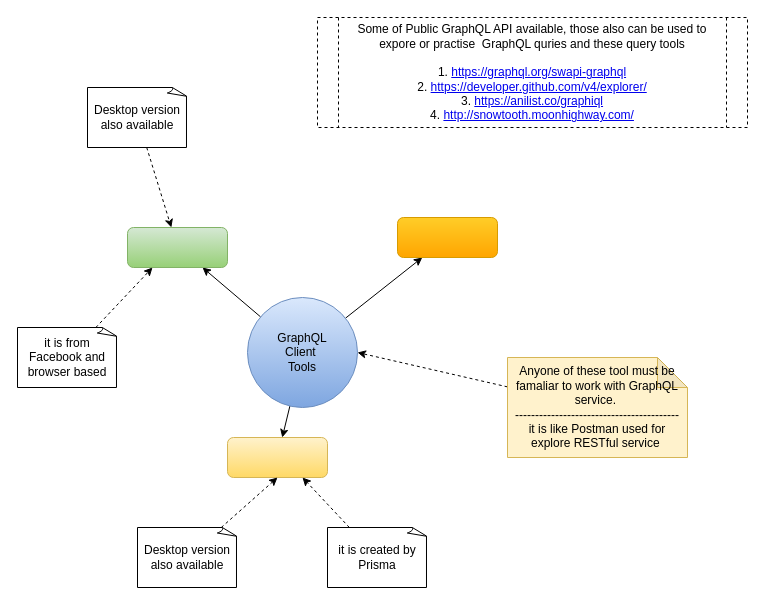
The diagram is 765 pixels wide and 605 high, and some of its shapes have lost their labels. Here are the shapes that lost their labels. From the top down, the centre of each, then its label:
[177,247]: GraphiQL
[447,237]: GraphQL Bin
[277,457]: GraphQL playground
